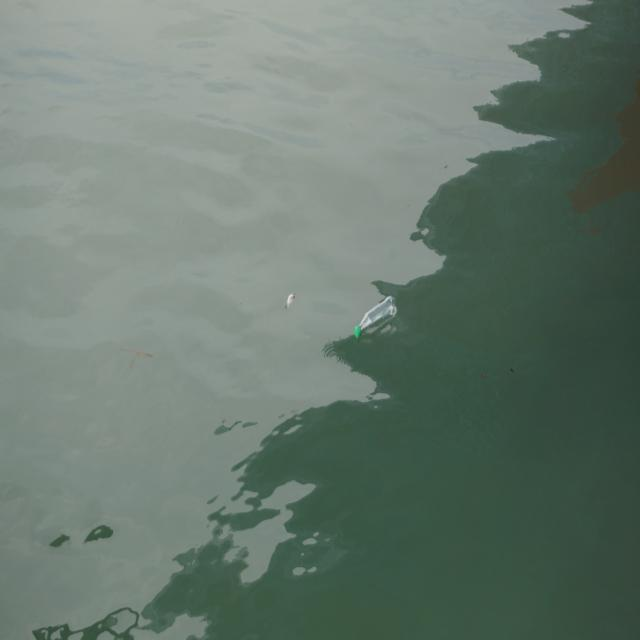Botol Plastik: (355, 295, 399, 344)
